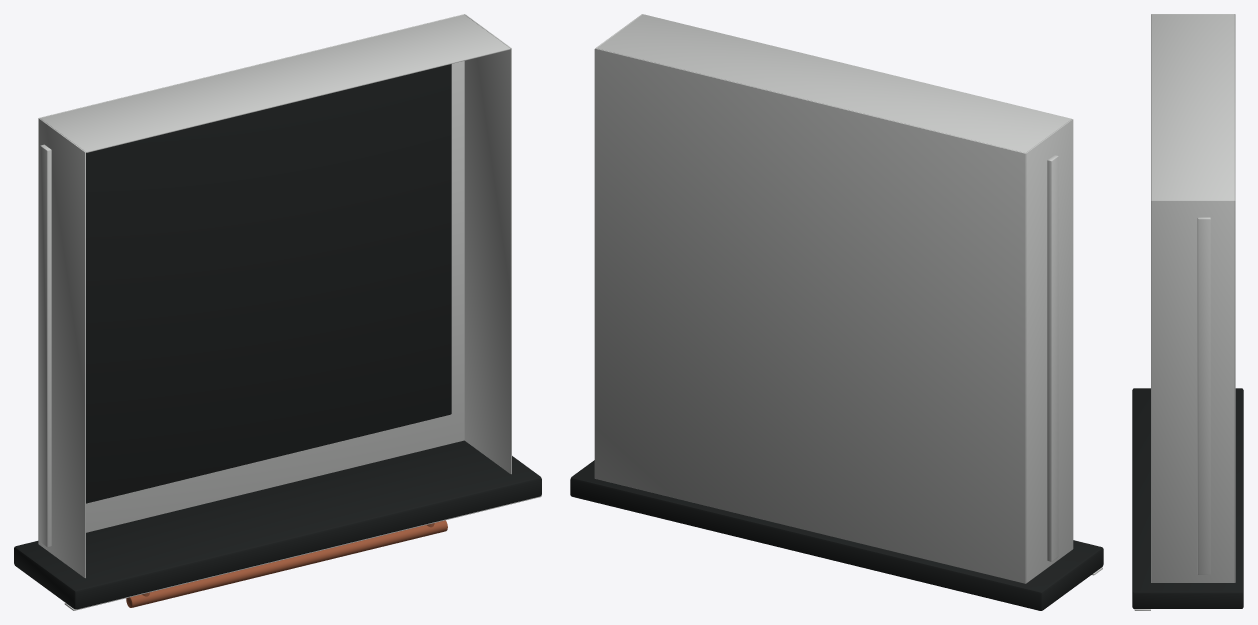
Rendered from warming_drawer_drawer.glb.
The picture shows the model from 3 angles, left to right: view 1: azimuth 30°, elevation 25°; view 2: azimuth 150°, elevation 25°; view 3: azimuth 270°, elevation 25°; orthographic projection. The views are drawn at different scales.
Parts seen in each view (by area): view 1: warming_drawer_drawer_x; view 2: warming_drawer_drawer_x; view 3: warming_drawer_drawer_x.
Boxes of the visible parts, left/top/right/bottom form: warming_drawer_drawer_x: left=14, top=14, right=541, bottom=610; warming_drawer_drawer_x: left=570, top=14, right=1103, bottom=610; warming_drawer_drawer_x: left=1132, top=14, right=1243, bottom=610.
Bounding box in the file's own units: 0.592 × 0.577 × 0.136.
